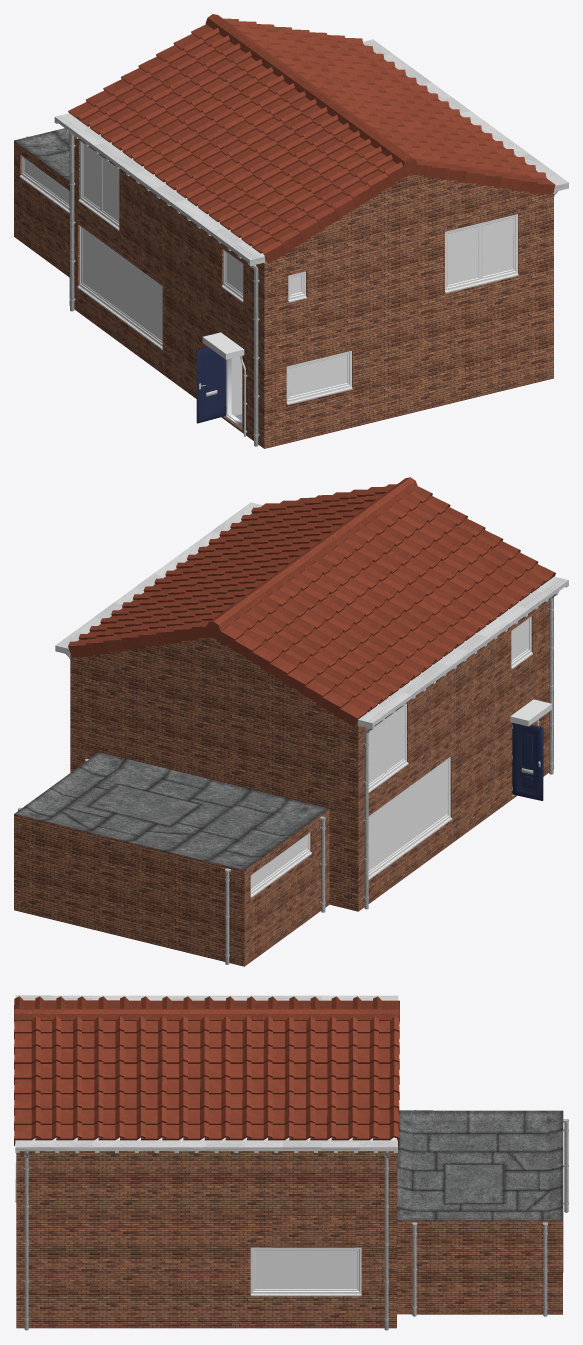
File: newCrimeScene.fbx
3 views of the same model, one above another, from view 1: azimuth 30°, elevation 25°; view 2: azimuth 150°, elevation 25°; view 3: azimuth 270°, elevation 25° (orthographic). The views are drawn at different scales.
Visible parts, largest first — view 1: house1; view 2: house1; view 3: house1.
Part boxes in pixels (<box>): house1: <box>14,14,568,448</box>; house1: <box>14,477,568,966</box>; house1: <box>14,995,568,1330</box>.
Size of the model in its own units: 14.36 by 10.58 by 21.28.
